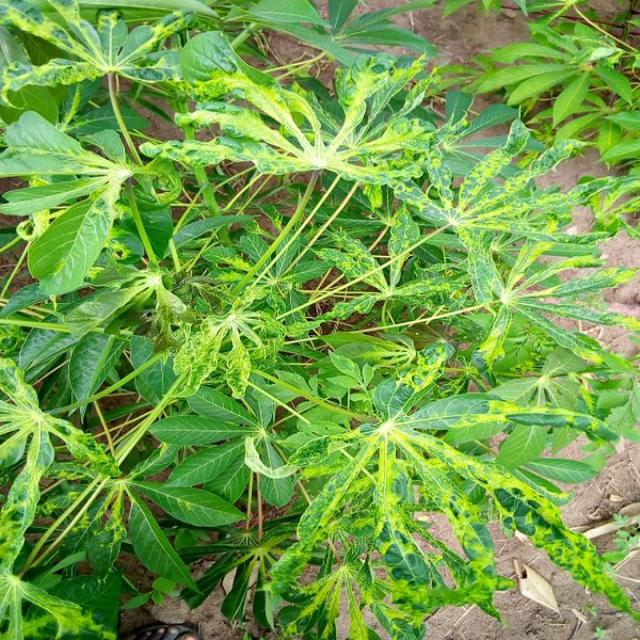Mosaico: (319, 394, 626, 583), (187, 51, 462, 198), (398, 124, 581, 278), (13, 0, 267, 104), (298, 218, 506, 332), (61, 419, 215, 571), (484, 214, 592, 403), (7, 354, 113, 520), (63, 127, 182, 272), (177, 288, 301, 403)
